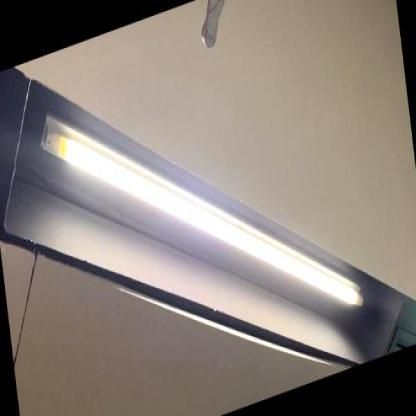light_on: (32, 3, 373, 414)
